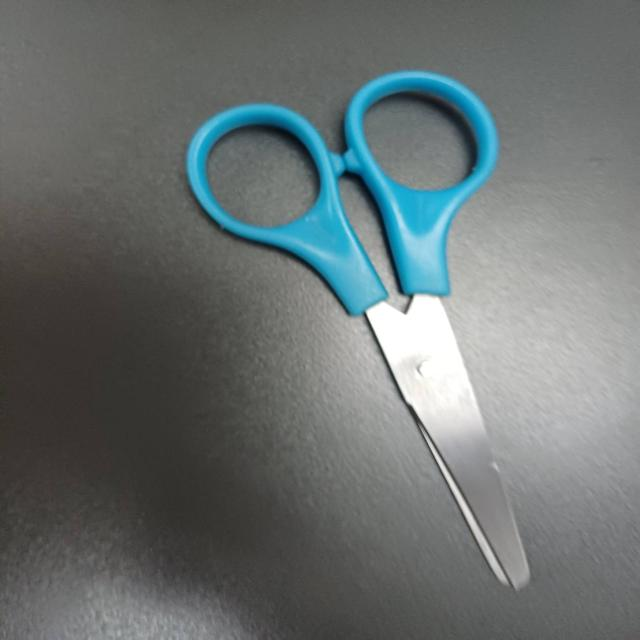scissors: (172, 62, 544, 602)
